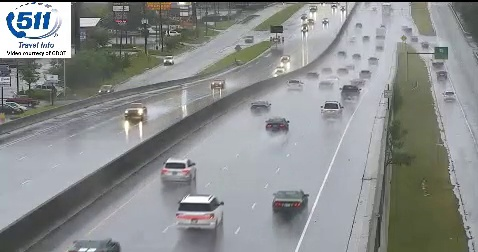car: (177, 195, 223, 229), (161, 158, 196, 184), (273, 190, 308, 215), (265, 117, 289, 132), (321, 101, 342, 118)
